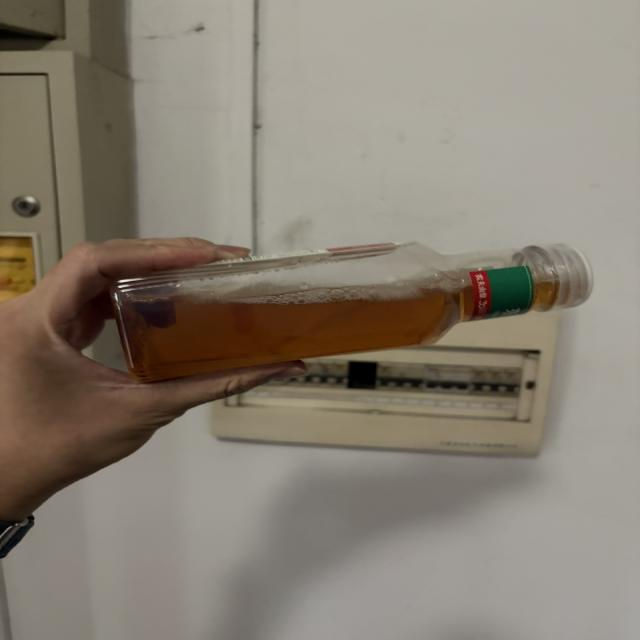high: (111, 242, 592, 382)
